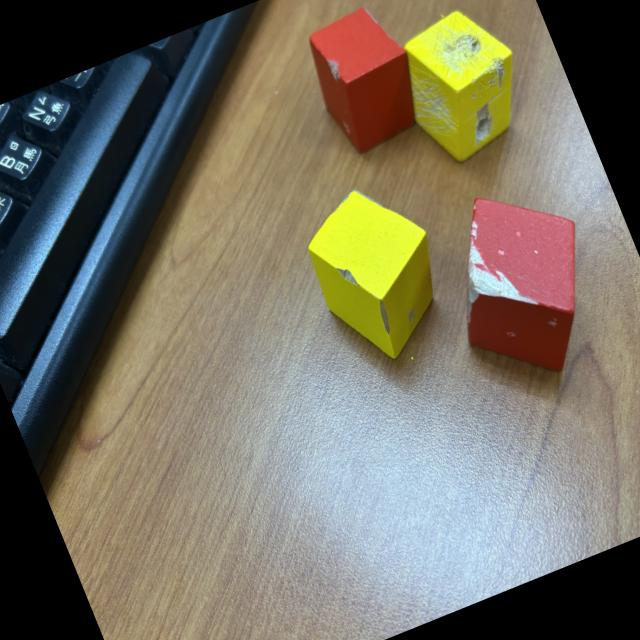broken: (418, 166, 624, 399), (289, 168, 466, 374), (381, 0, 543, 173), (296, 0, 435, 159)
